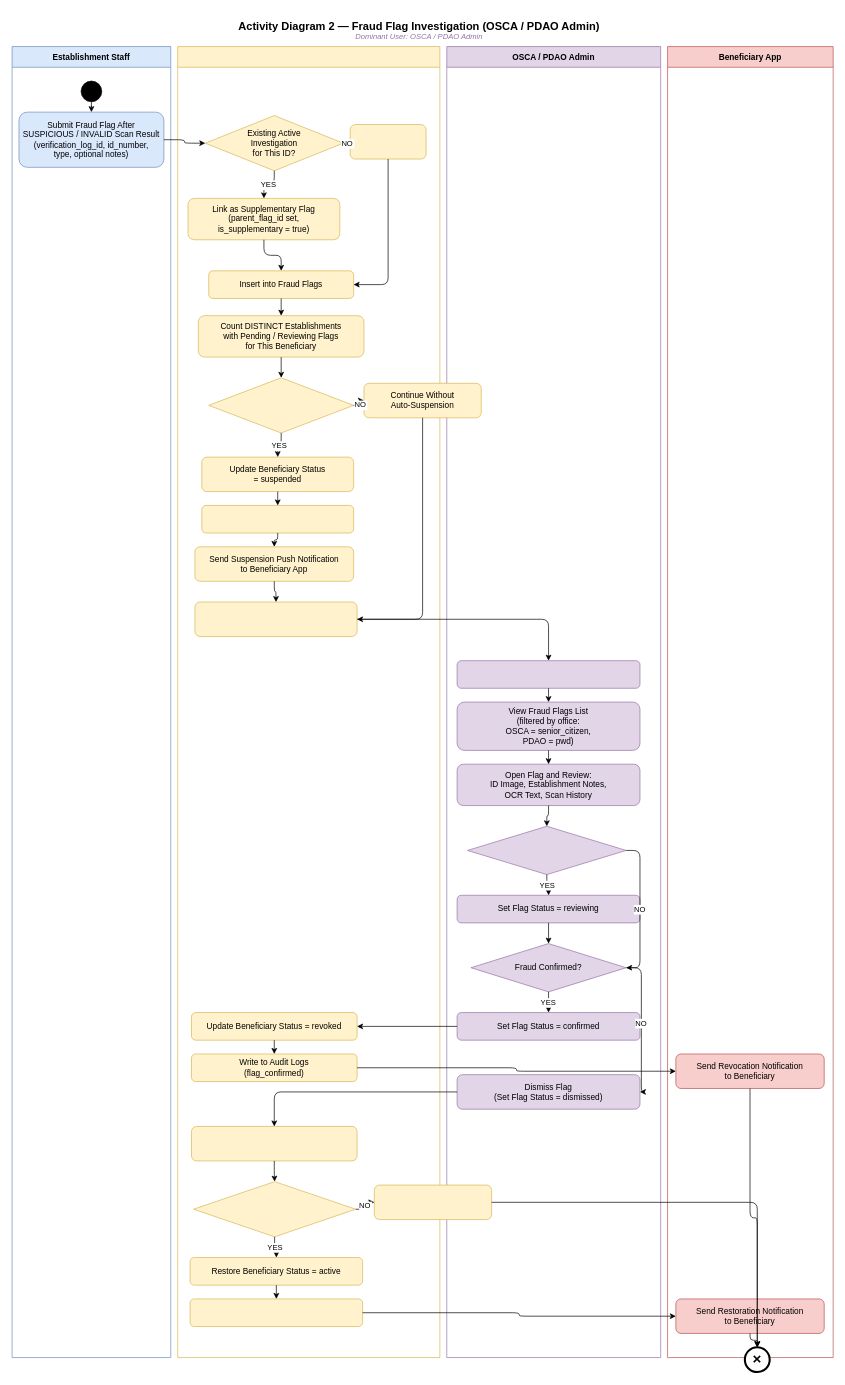
This 845x1385 diagram has some shape labels left out. Each missing label, with the box of its shape:
All Flags Dismissed AND Beneficiary Was Auto-Suspended?: (193, 1181, 356, 1237)
Count >= 3 AND Beneficiary Status = active?: (208, 377, 354, 433)
Create Primary Flag (status = pending): (349, 124, 426, 159)
iDetect API Server: (177, 46, 440, 1358)
Log Into Web Portal: (456, 660, 640, 688)
No Status Change: (374, 1184, 492, 1220)
Open for Investigation?: (467, 826, 626, 875)
Recount Active Flags for This Beneficiary: (191, 1126, 357, 1161)
Send Flag Acknowledgment Notification to Beneficiary App: (194, 601, 357, 637)
Write to Audit Logs (auto_suspended = true): (201, 505, 354, 533)
Write to Audit Logs (flag_restored): (189, 1298, 363, 1327)
